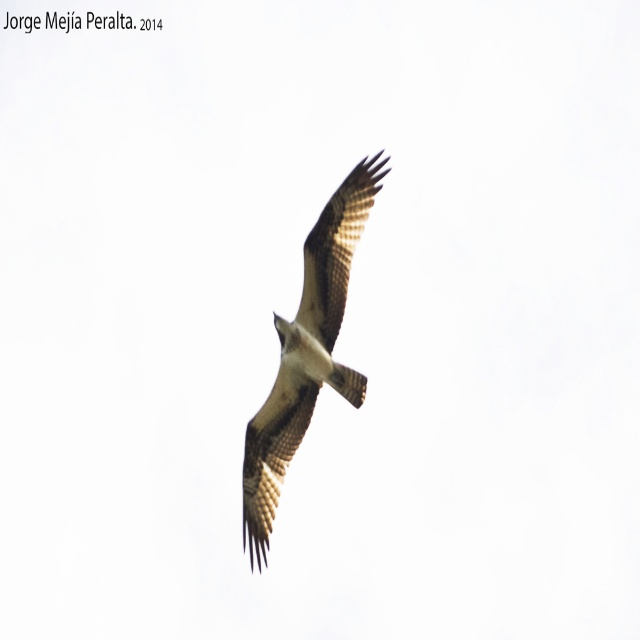Eagle: (245, 142, 385, 576)
